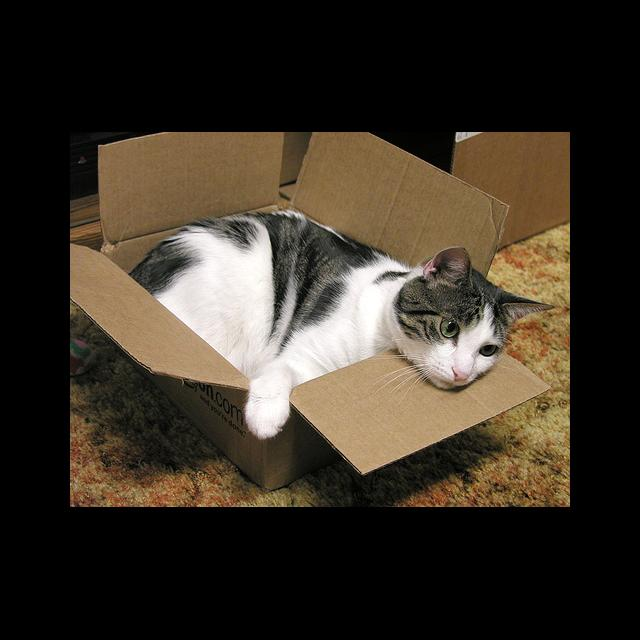animals: (423, 247, 553, 381)
